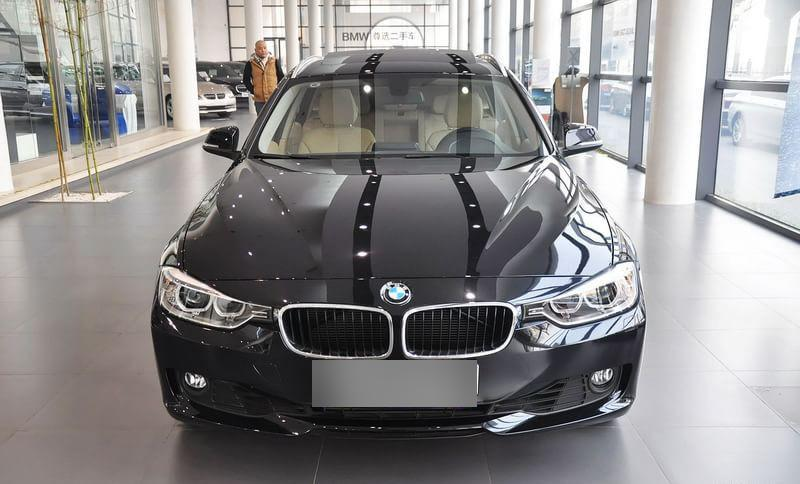Wagon: (149, 47, 647, 440)
